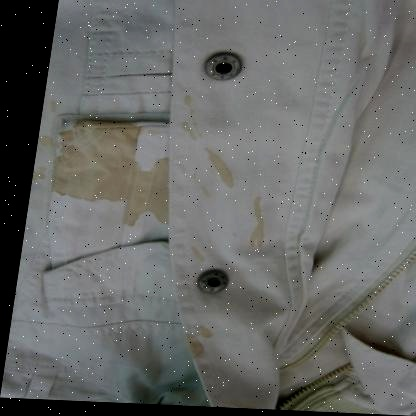coffee: (69, 128, 127, 198), (131, 174, 166, 220), (251, 199, 264, 242), (188, 337, 201, 354), (222, 165, 230, 183)
